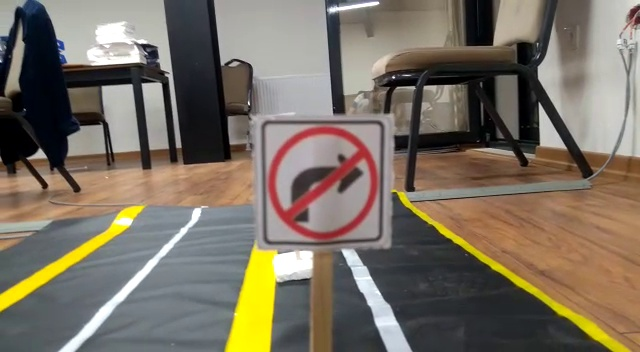saga_donulmez: (260, 117, 383, 244)
